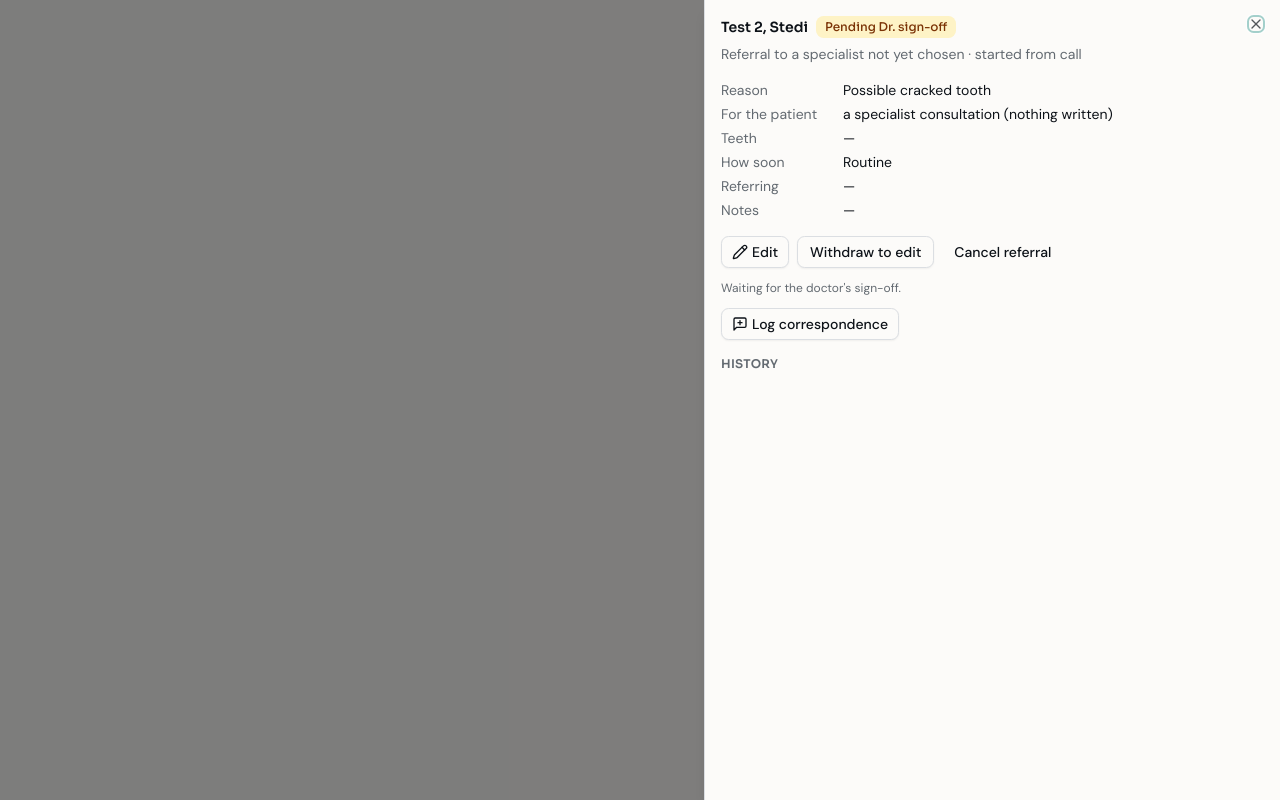
the detail panel's moves › awaiting sign-off: withdraw goes back to a draft
Expected: the element with test id "tc-hub-actions" is shown, [721,236,1063,340]
Click the button with test id "tc-hub-withdraw" at (866, 252), box [797,236,934,268]
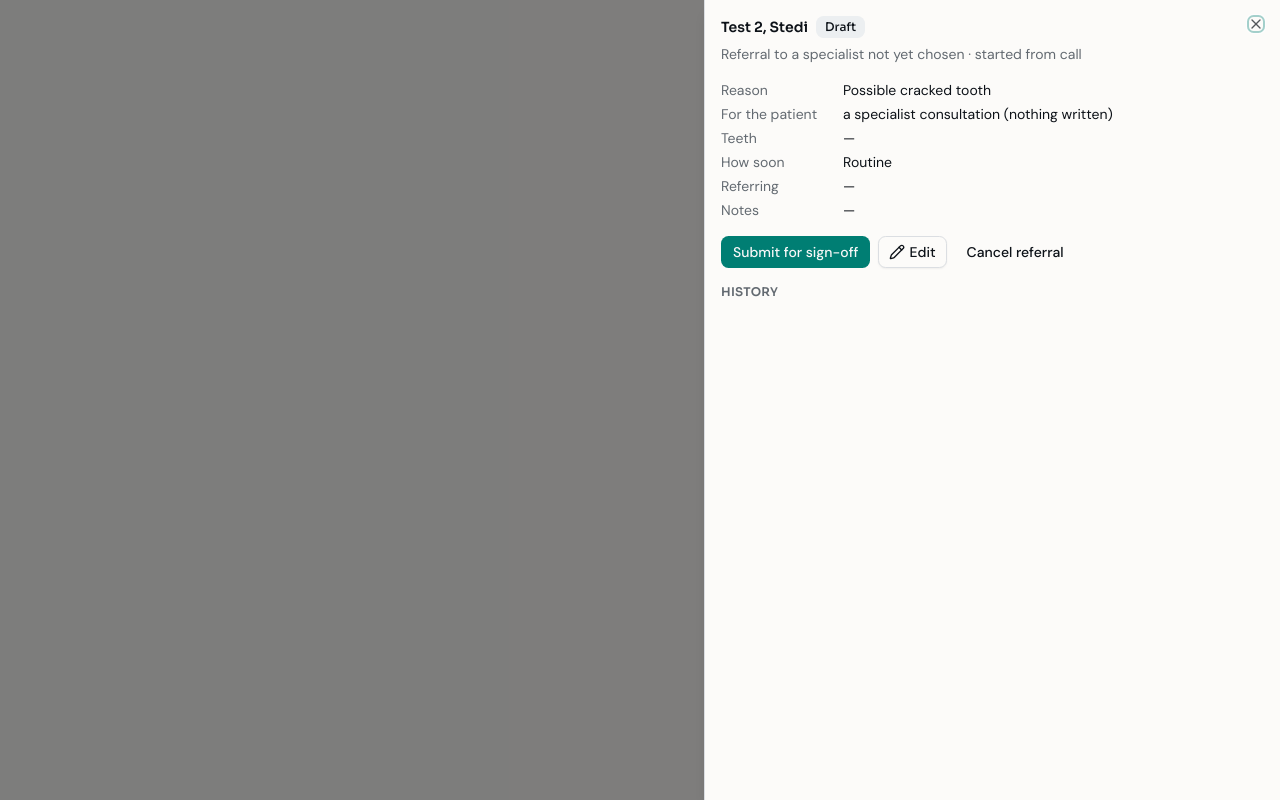
Expected: the text with test id "tc-referral-status" reads "Draft", [825,19,856,34]
Expected: the button with test id "tc-hub-submit" is shown, [721,236,870,268]
